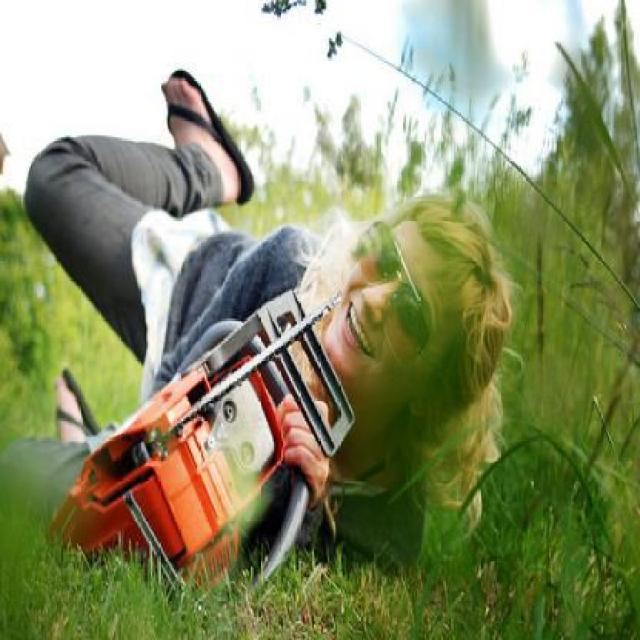Chainsaw: (2, 288, 355, 621)
